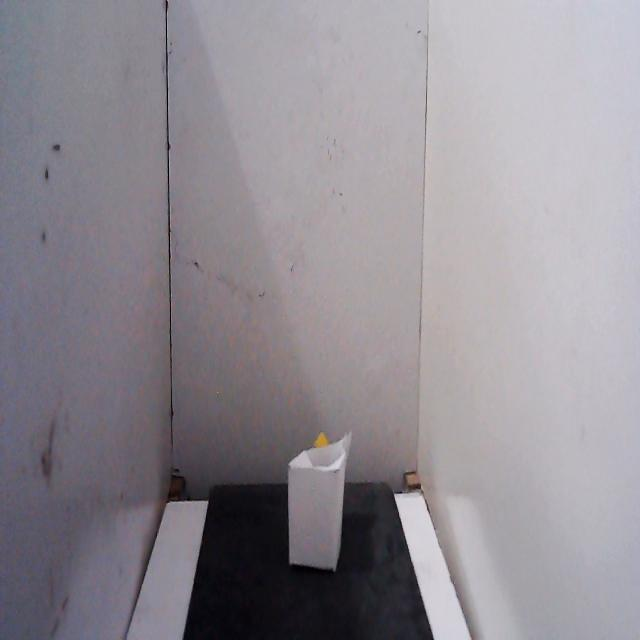papel: (283, 422, 357, 580)
